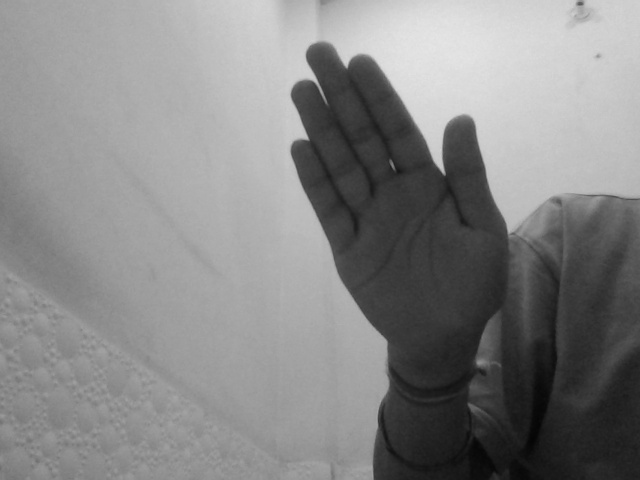Hello: (288, 38, 510, 381)
